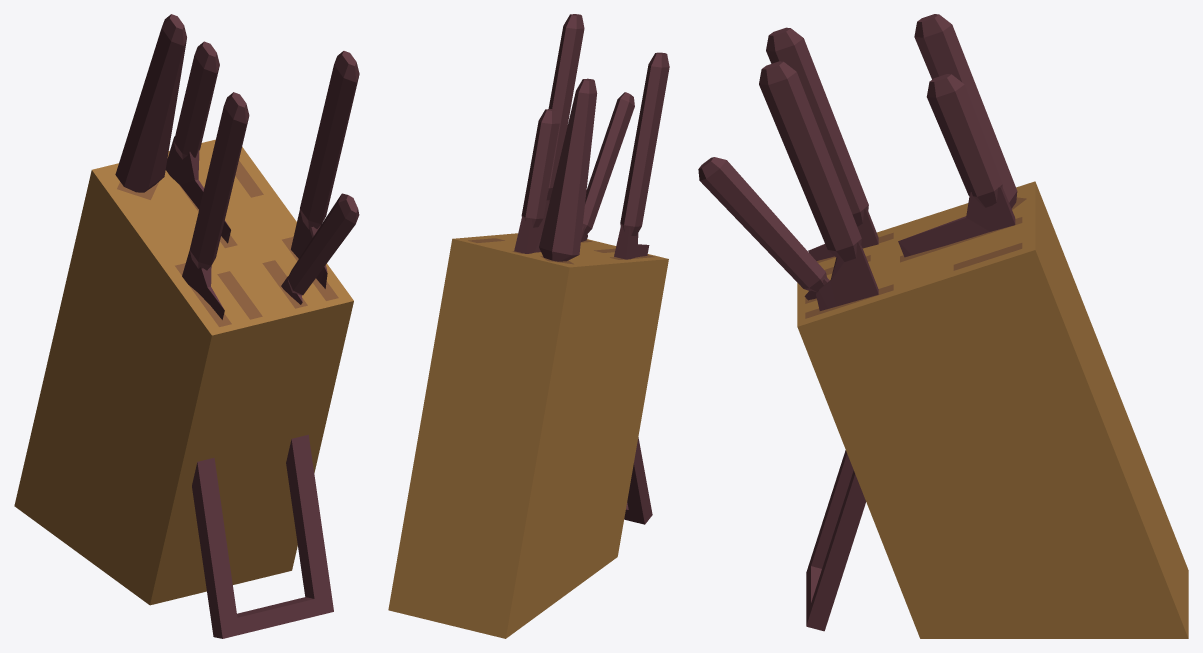
File: knife-holder.fbx
The picture shows the model from 3 angles, left to right: view 1: azimuth 30°, elevation 25°; view 2: azimuth 150°, elevation 25°; view 3: azimuth 270°, elevation 25°; orthographic projection. The views are drawn at different scales.
Parts seen in each view (by area): view 1: knife-holder; view 2: knife-holder; view 3: knife-holder.
Part boxes in pixels (x1,y1,x2,y2): knife-holder: [14, 14, 359, 638]; knife-holder: [388, 14, 669, 638]; knife-holder: [698, 14, 1188, 638].
Bounding box in the file's own units: 0.099 × 0.3839 × 0.2987.
